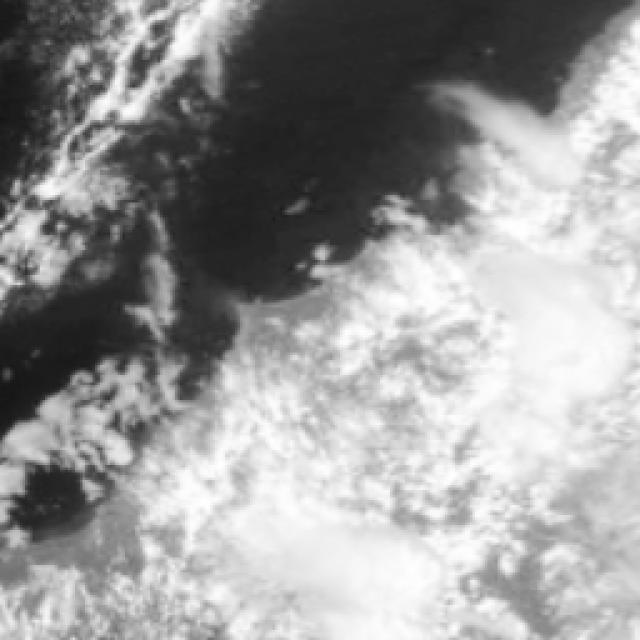CB: (245, 350, 640, 638), (395, 243, 640, 345)
